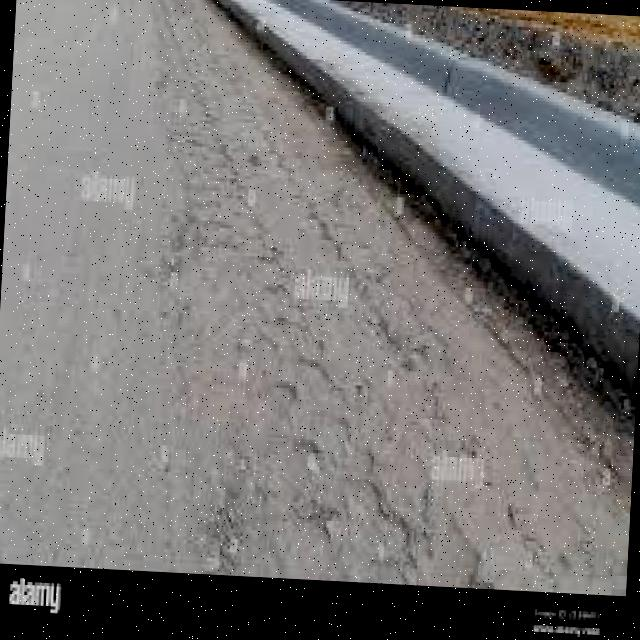curb: (331, 25, 532, 266), (502, 123, 640, 374), (218, 1, 381, 95)
